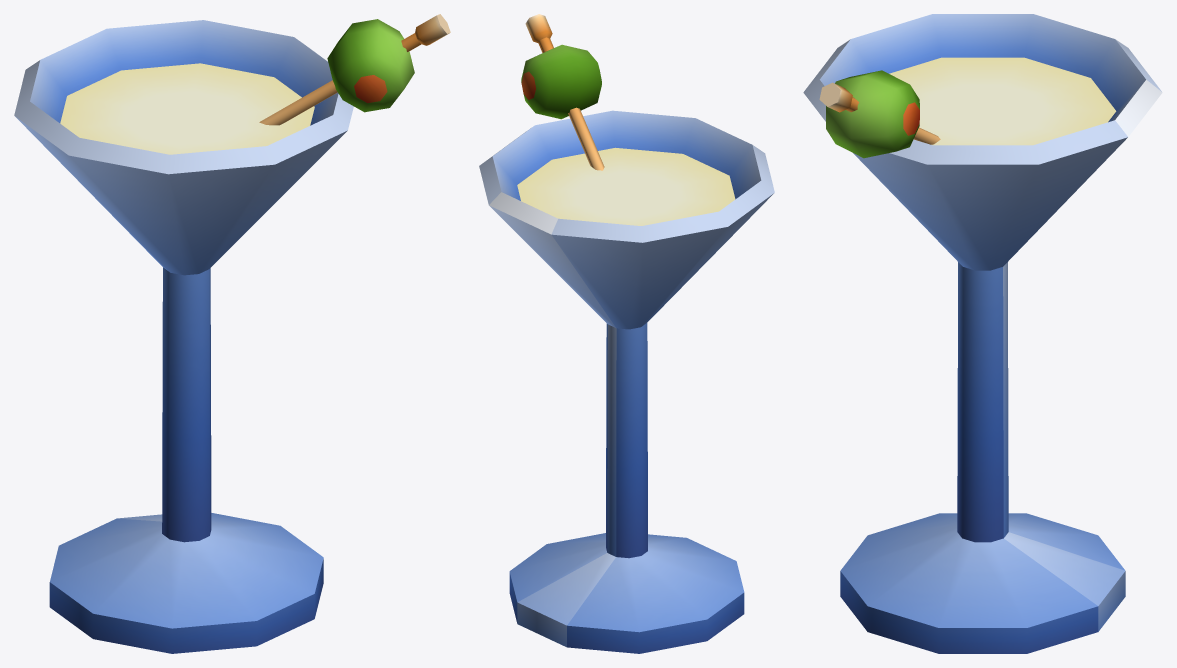
File: m_Martini01.fbx
3 views of the same model, side by side, from view 1: azimuth 30°, elevation 25°; view 2: azimuth 150°, elevation 25°; view 3: azimuth 270°, elevation 25° (orthographic). The views are drawn at different scales.
Parts seen in each view (by area): view 1: m_Martini01; view 2: m_Martini01; view 3: m_Martini01.
Part boxes in pixels (bbox=[...]): m_Martini01: bbox=[14, 14, 450, 653]; m_Martini01: bbox=[479, 14, 774, 653]; m_Martini01: bbox=[803, 14, 1162, 653].
Bounding box in the file's own units: 13.81 × 23.27 × 12.6.
